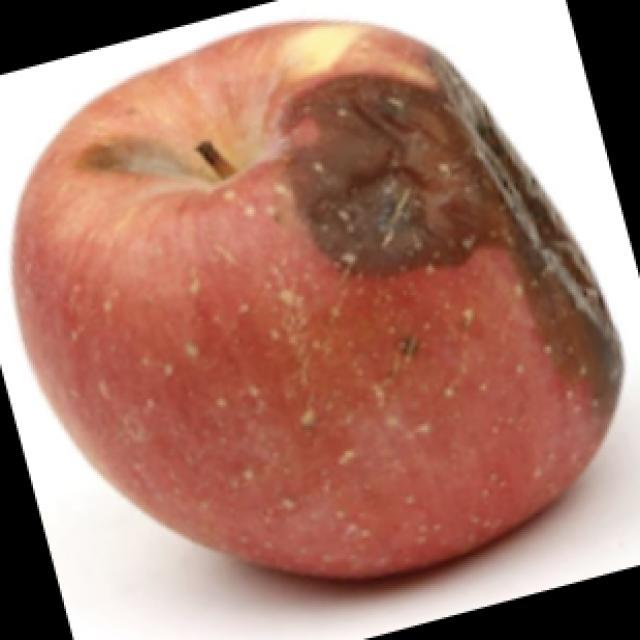Rotten: (26, 25, 626, 570)
